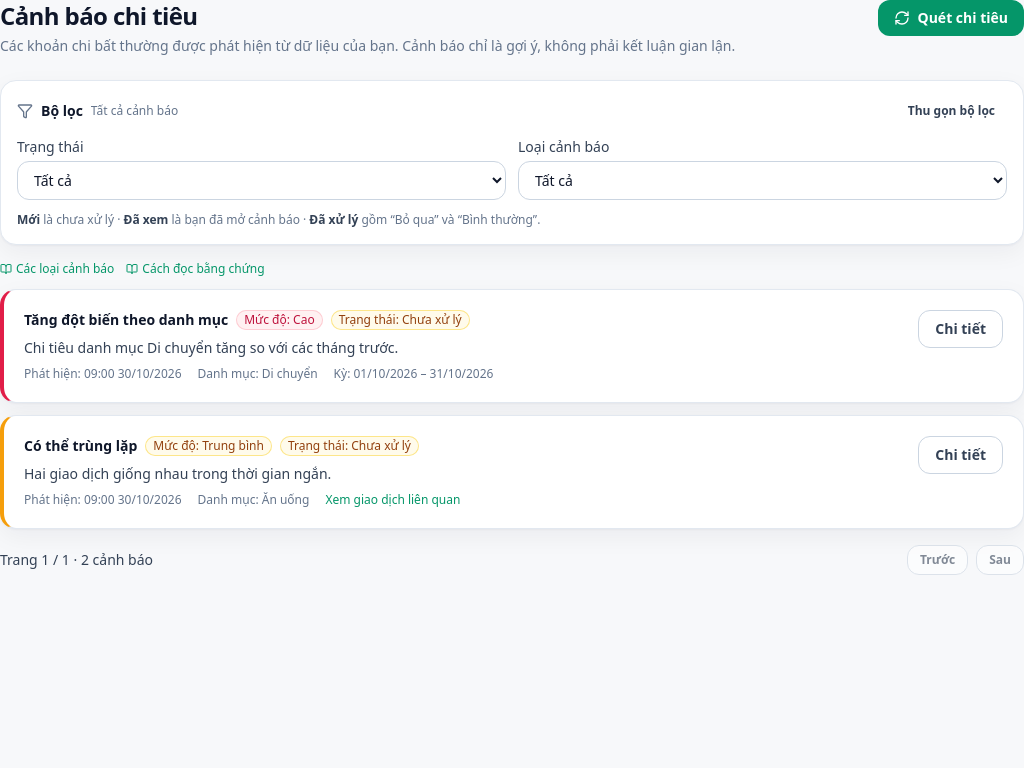
Test: AlertsPage — detail and status changes › renders category spike and duplicate details without inventing fields
Step 1. Click the button with aria-label "Xem chi tiết: Tăng đột biến" → point(961, 329), box [918,310,1003,348]
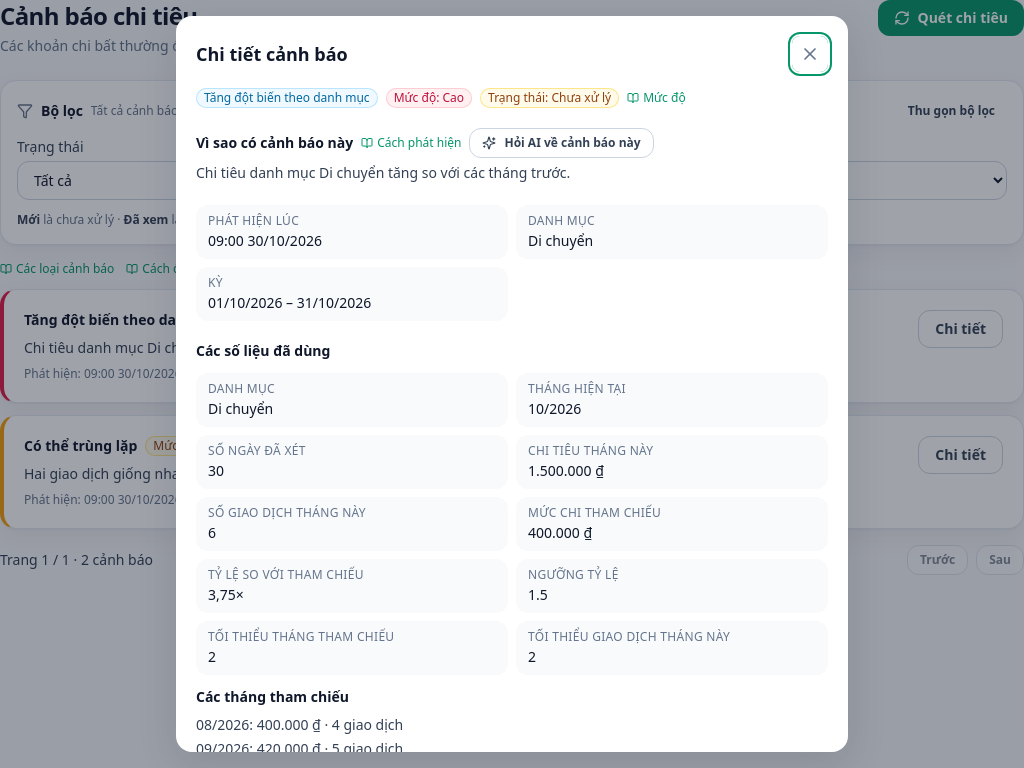
Now the text "10/2026" is shown, box [528,399,581,418]
Now the text "1.500.000 ₫" is shown, box [528,461,604,480]
Now the text "400.000 ₫" is shown, box [528,523,592,542]
Step 2. Click the button named "Đóng" → point(810, 54), box [792,36,828,72]
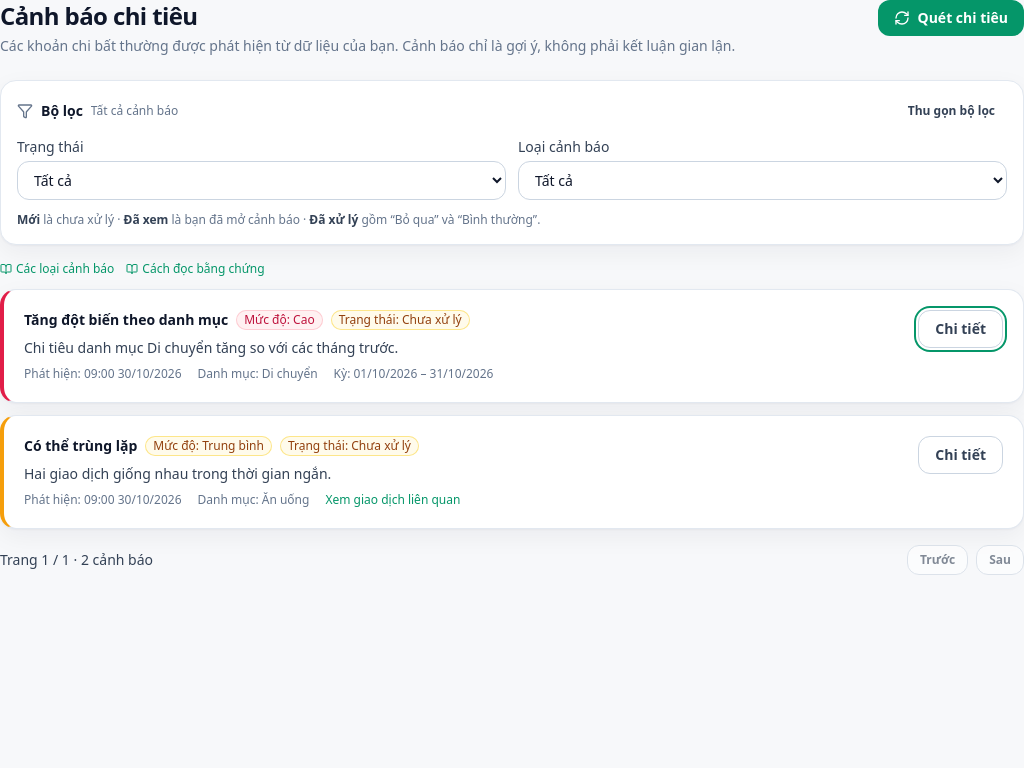
Step 3. Click the button with aria-label "Xem chi tiết: Có thể trùng lặp" → point(961, 455), box [918,436,1003,474]
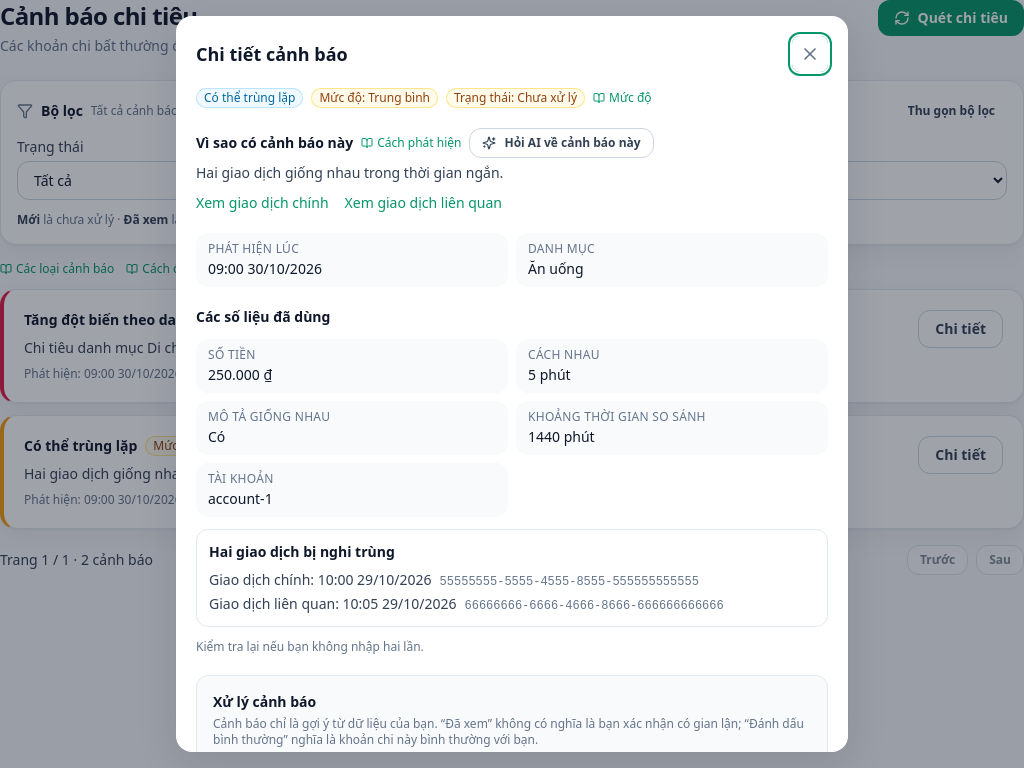
Now the heading "Hai giao dịch bị nghi trùng" is shown, box [209,542,395,561]
Now the text "Giao dịch chính:" is shown, box [209,570,314,589]
Now the text "Giao dịch liên quan:" is shown, box [209,594,339,613]
